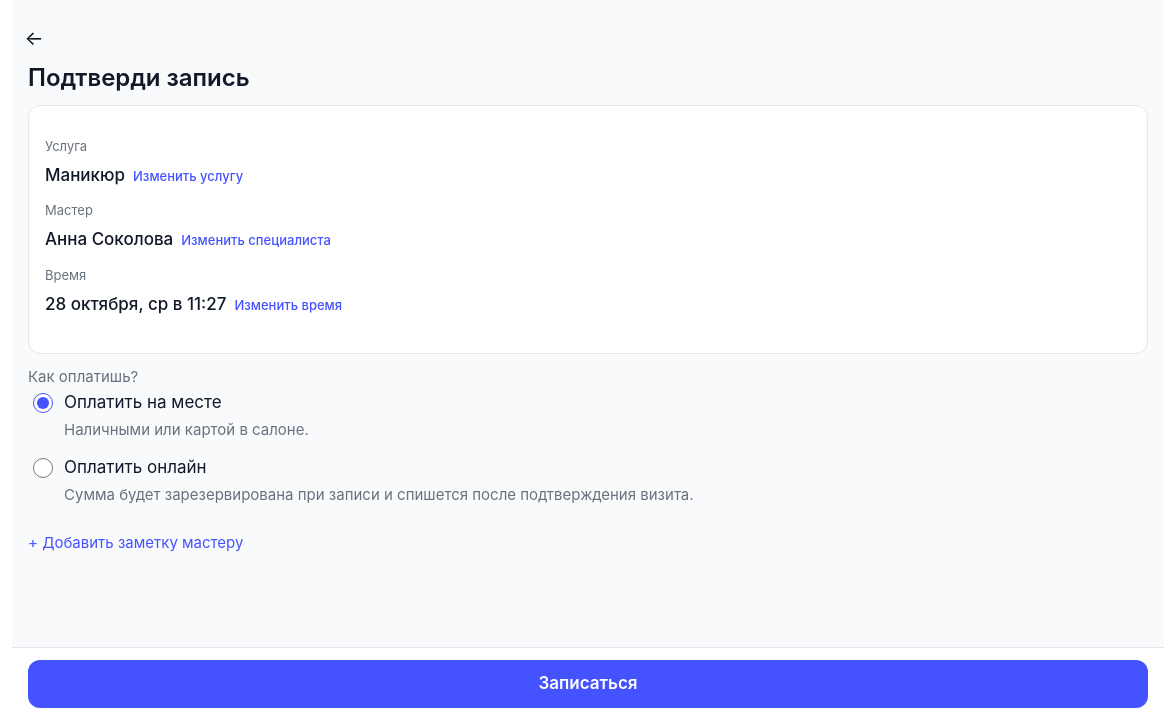
it: error matrix + idempotency (Wave 0 booking GO) › 4xx без названной причины — ровно «Не удалось создать запись.» (§6-кси п.2, DRF-2577)
What coordinates should you click on to do the following:
click the button "Записаться"
I would click on:
 (588, 684)
Its box is [28,660,1148,708].
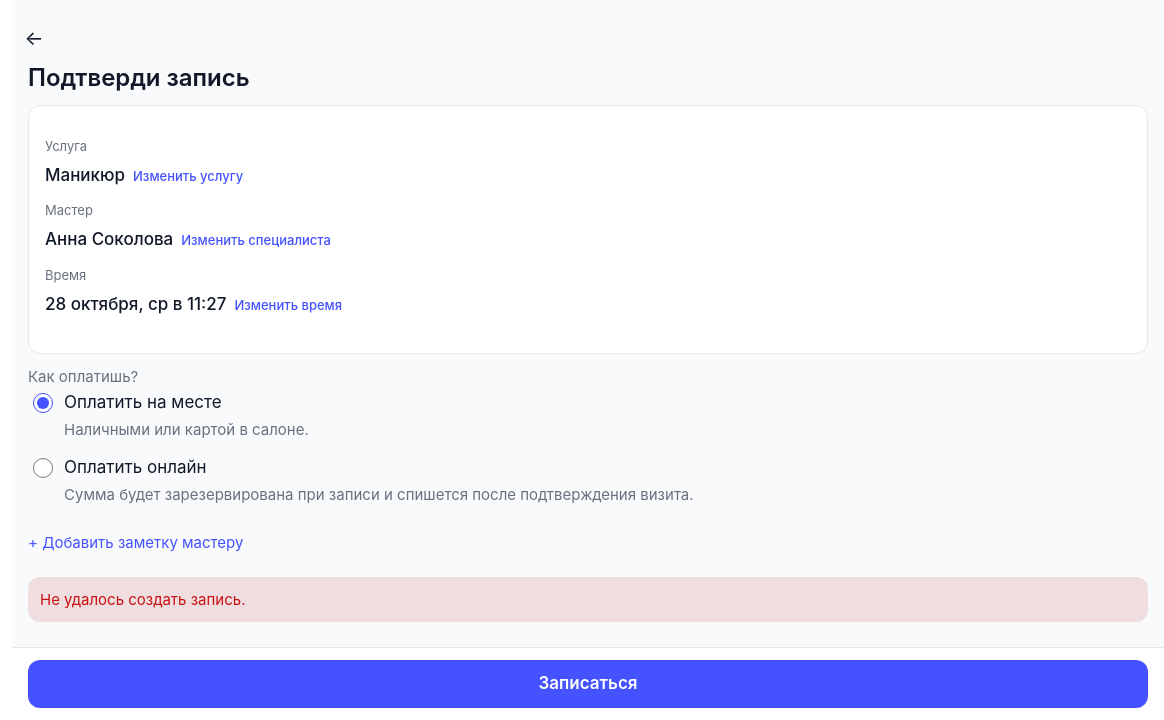
Now the message reads "Не удалось создать запись.", box [40,590,246,608]
